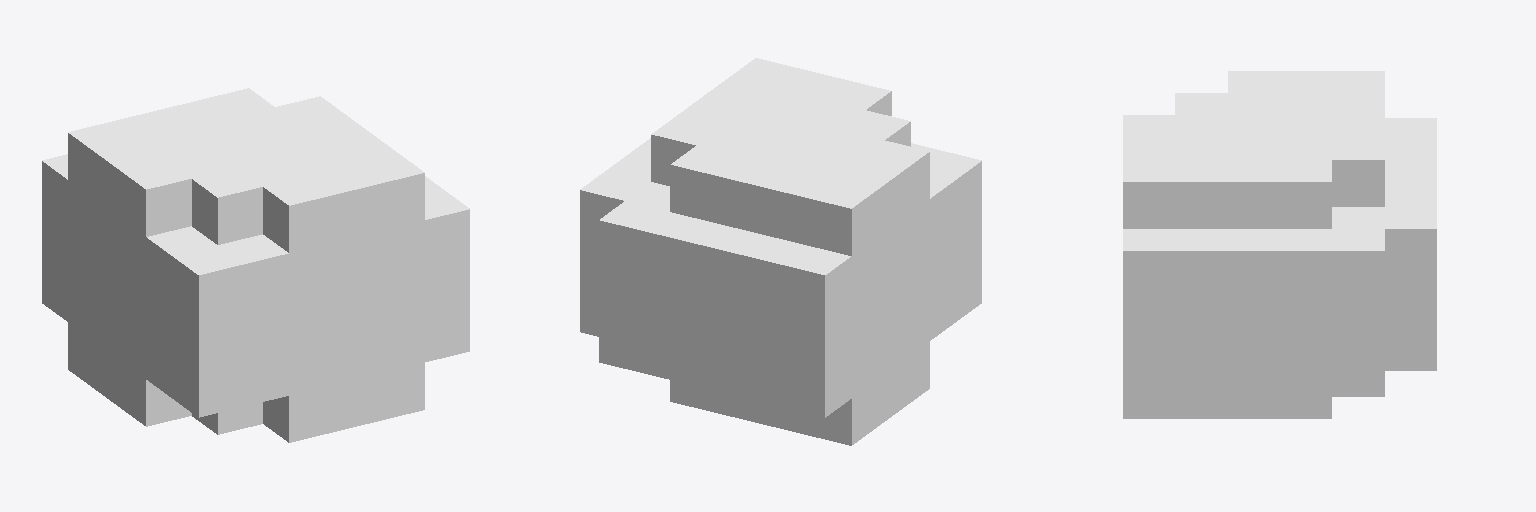
File: pipe_turn.obj
3 renders of one model, left to right at view 1: azimuth 30°, elevation 25°; view 2: azimuth 150°, elevation 25°; view 3: azimuth 270°, elevation 25°, orthographic.
Parts seen in each view (by area): view 1: pipe_turn; view 2: pipe_turn; view 3: pipe_turn.
Boxes of the visible parts, box(x1,y1,x2,y2) form: pipe_turn: box(42, 88, 469, 442); pipe_turn: box(580, 58, 981, 445); pipe_turn: box(1123, 71, 1436, 418).
Size of the model in its own units: 6 by 5 by 6.